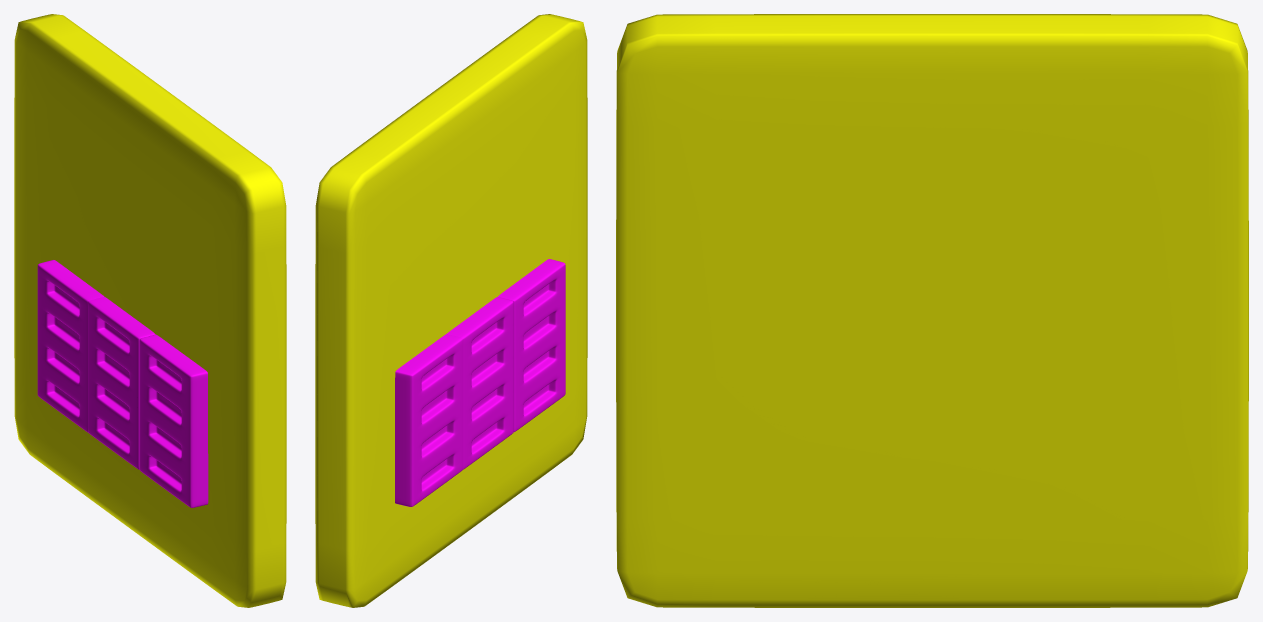
3 renders of one model, left to right at view 1: azimuth 30°, elevation 25°; view 2: azimuth 150°, elevation 25°; view 3: azimuth 270°, elevation 25°, orthographic. The views are drawn at different scales.
Parts seen in each view (by area): view 1: polySurface960; view 2: polySurface960; view 3: polySurface960.
Boxes of the visible parts, x1,y1,x2,y2 form: polySurface960: (14,14,286,607); polySurface960: (315,14,587,607); polySurface960: (616,14,1248,607).
Size of the model in its own units: 0.1403 by 0.9994 by 0.9994.
